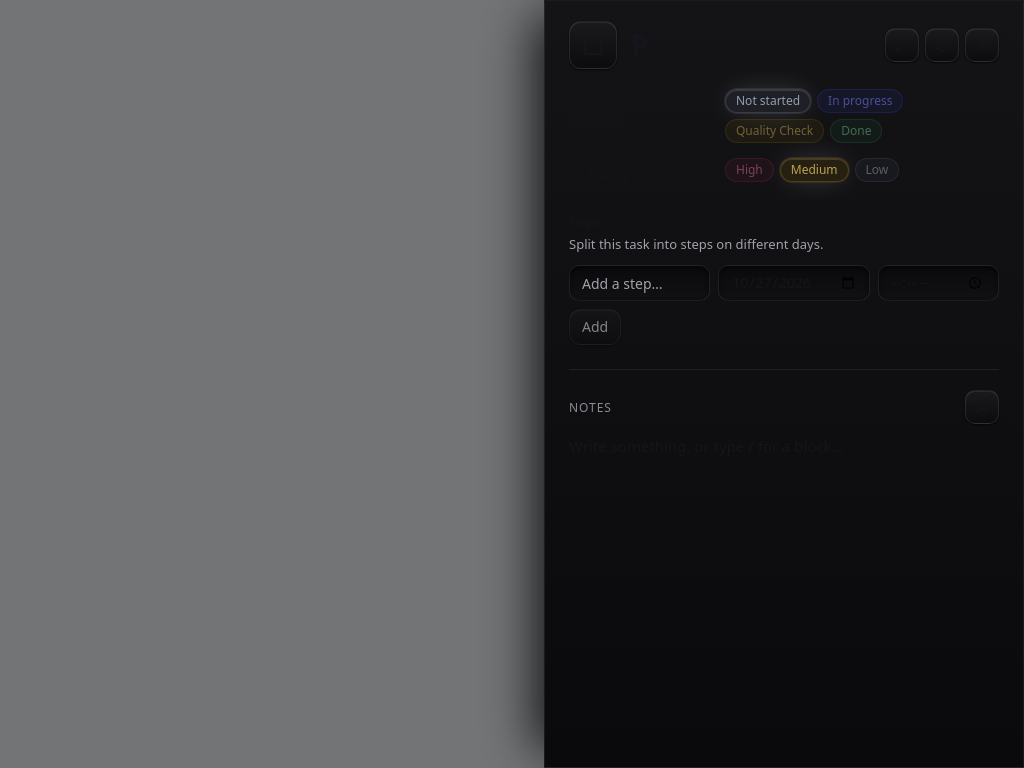
Test: PageDetail steps › adds steps and drives the task status as they are ticked
The image size is (1024, 768).
Type "One" into the field with placeholder "Add a step…". click: (640, 283)
box: [569,265,710,301]
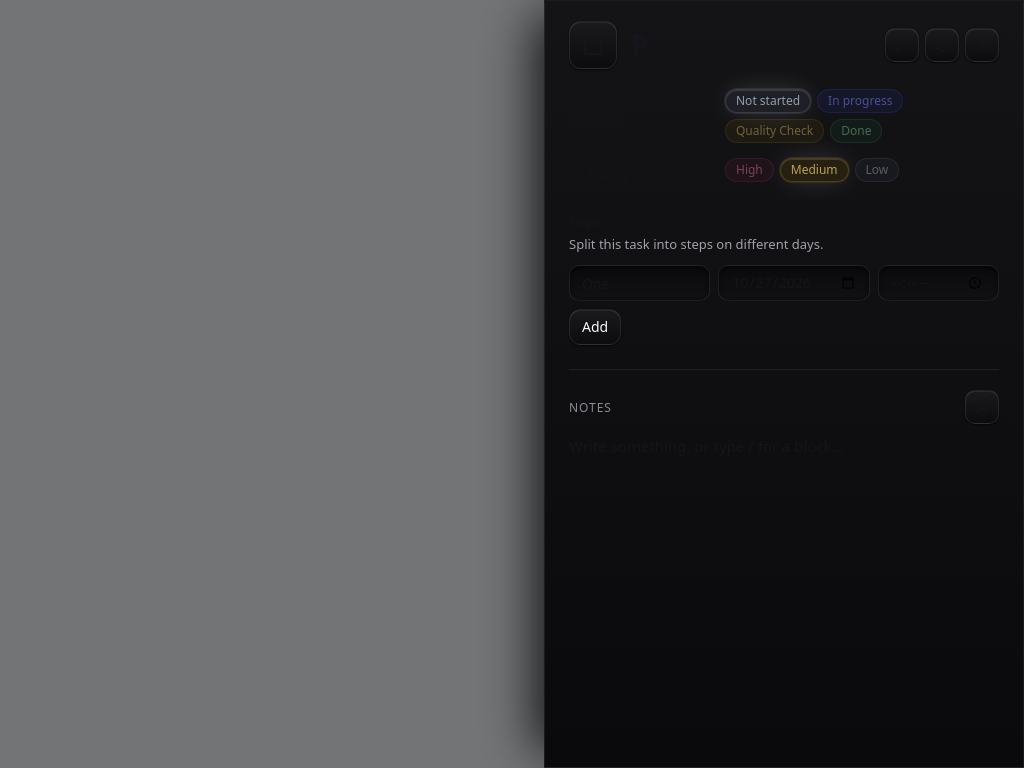
Click the button "Add". click: (595, 327)
box: [569,309,621,345]
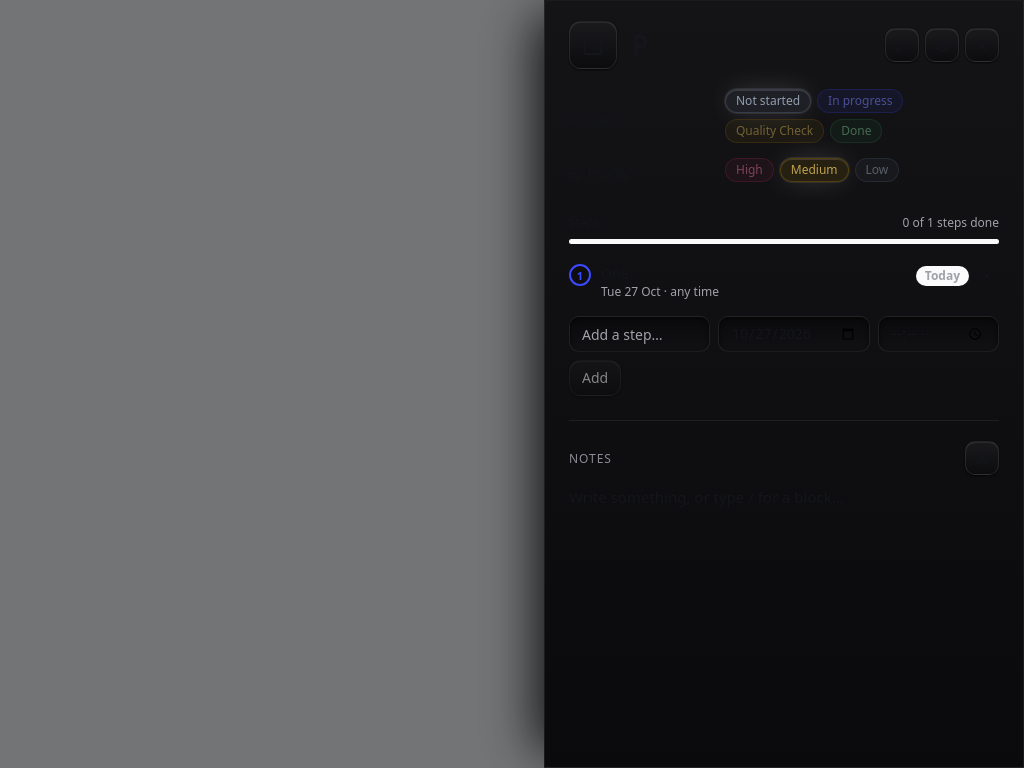
Type "Two" into the field with placeholder "Add a step…". click: (640, 334)
box: [569,316,710,352]
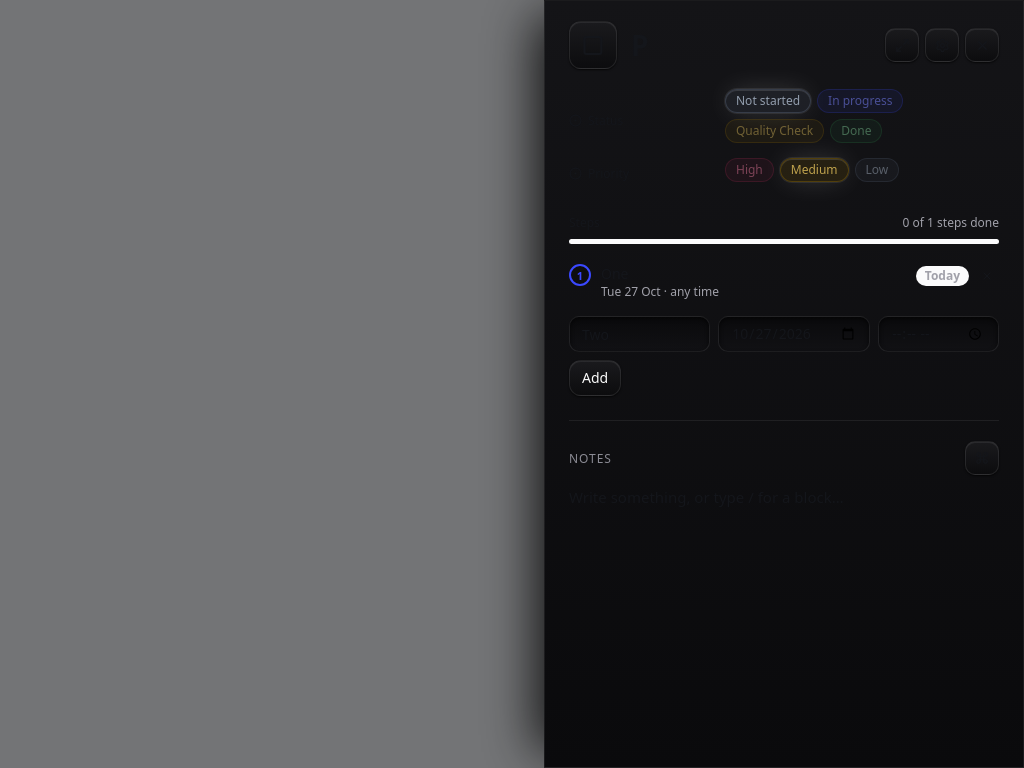
Click the button "Add". click: (595, 378)
box: [569,360,621,396]
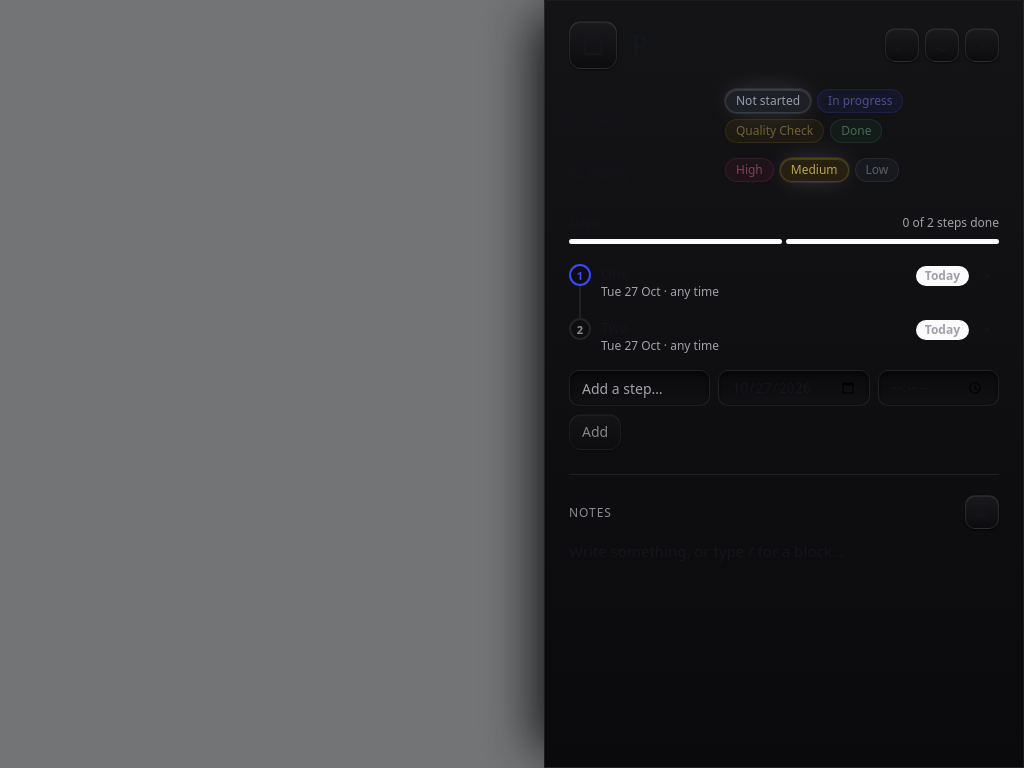
Check: the text "0 of 2 steps done" is shown, box [903,207,999,231]
Check: the number of checkboxes labelled "1" is 2
Check: the field with placeholder "Add a step…" is empty, box [569,370,710,406]
Click the checkbox labelled "1". click: (580, 275)
box: [569,264,591,286]
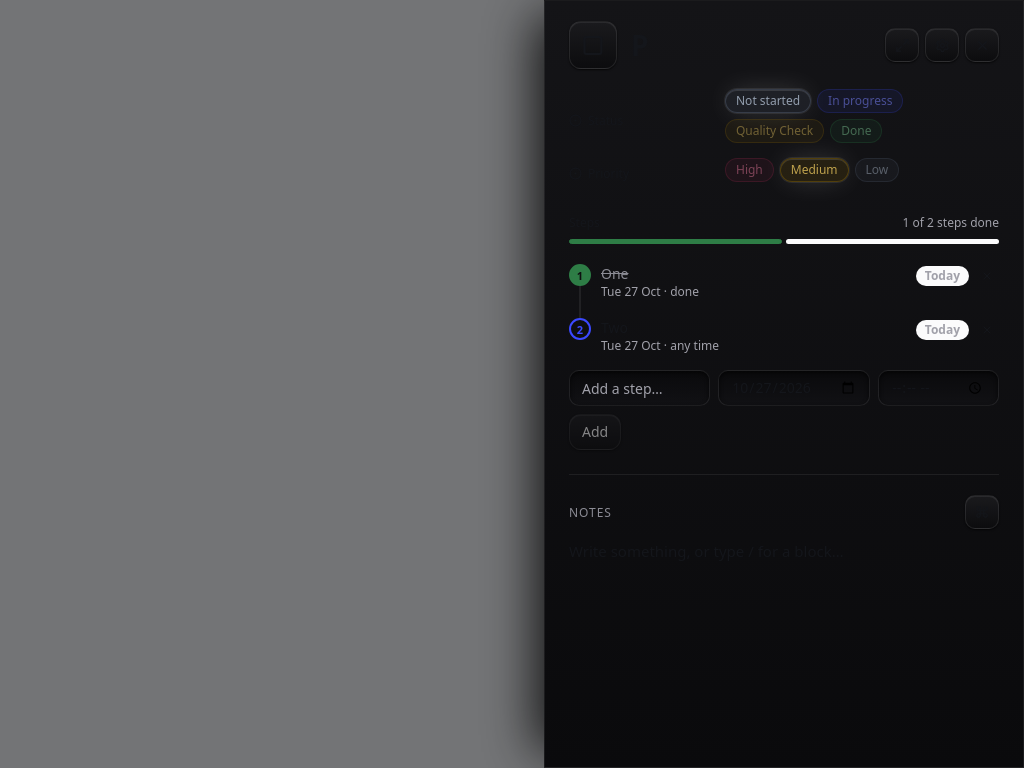
Check: the button "In progress" is shown, box [817,89,903,113]
Check: the text "1 of 2 steps done" is shown, box [903,207,999,231]
Click the checkbox labelled "2". click: (580, 329)
box: [569,318,591,340]
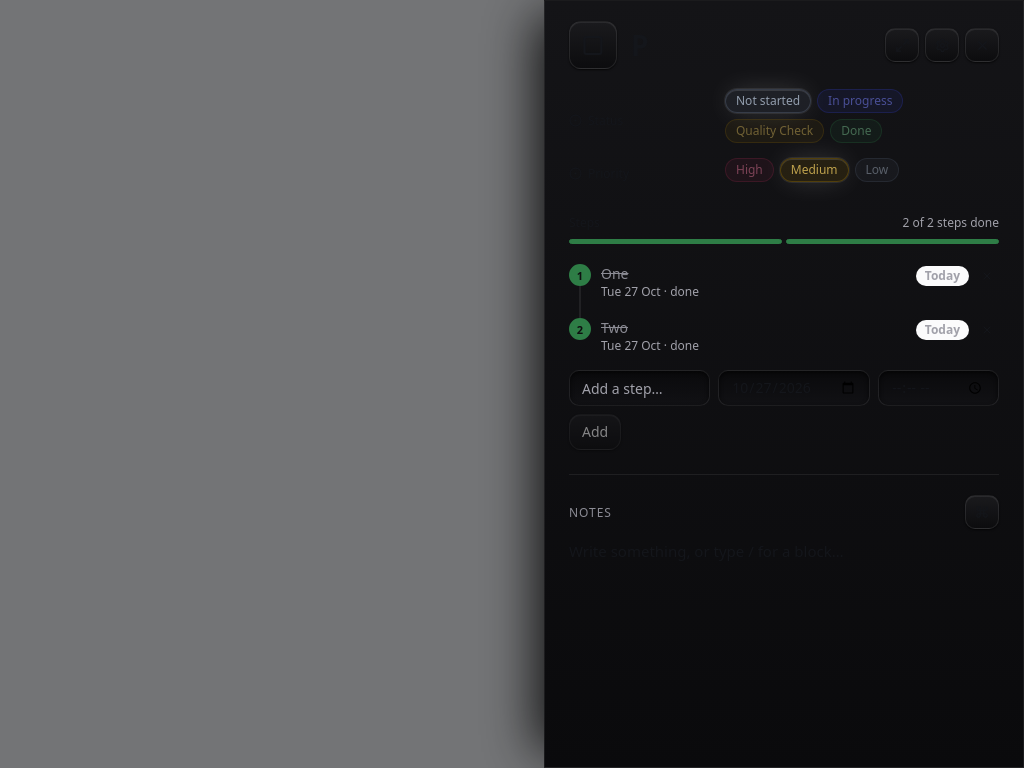
Check: the button "Done" is shown, box [830,119,882,143]
Check: the text "2 of 2 steps done" is shown, box [903,207,999,231]
